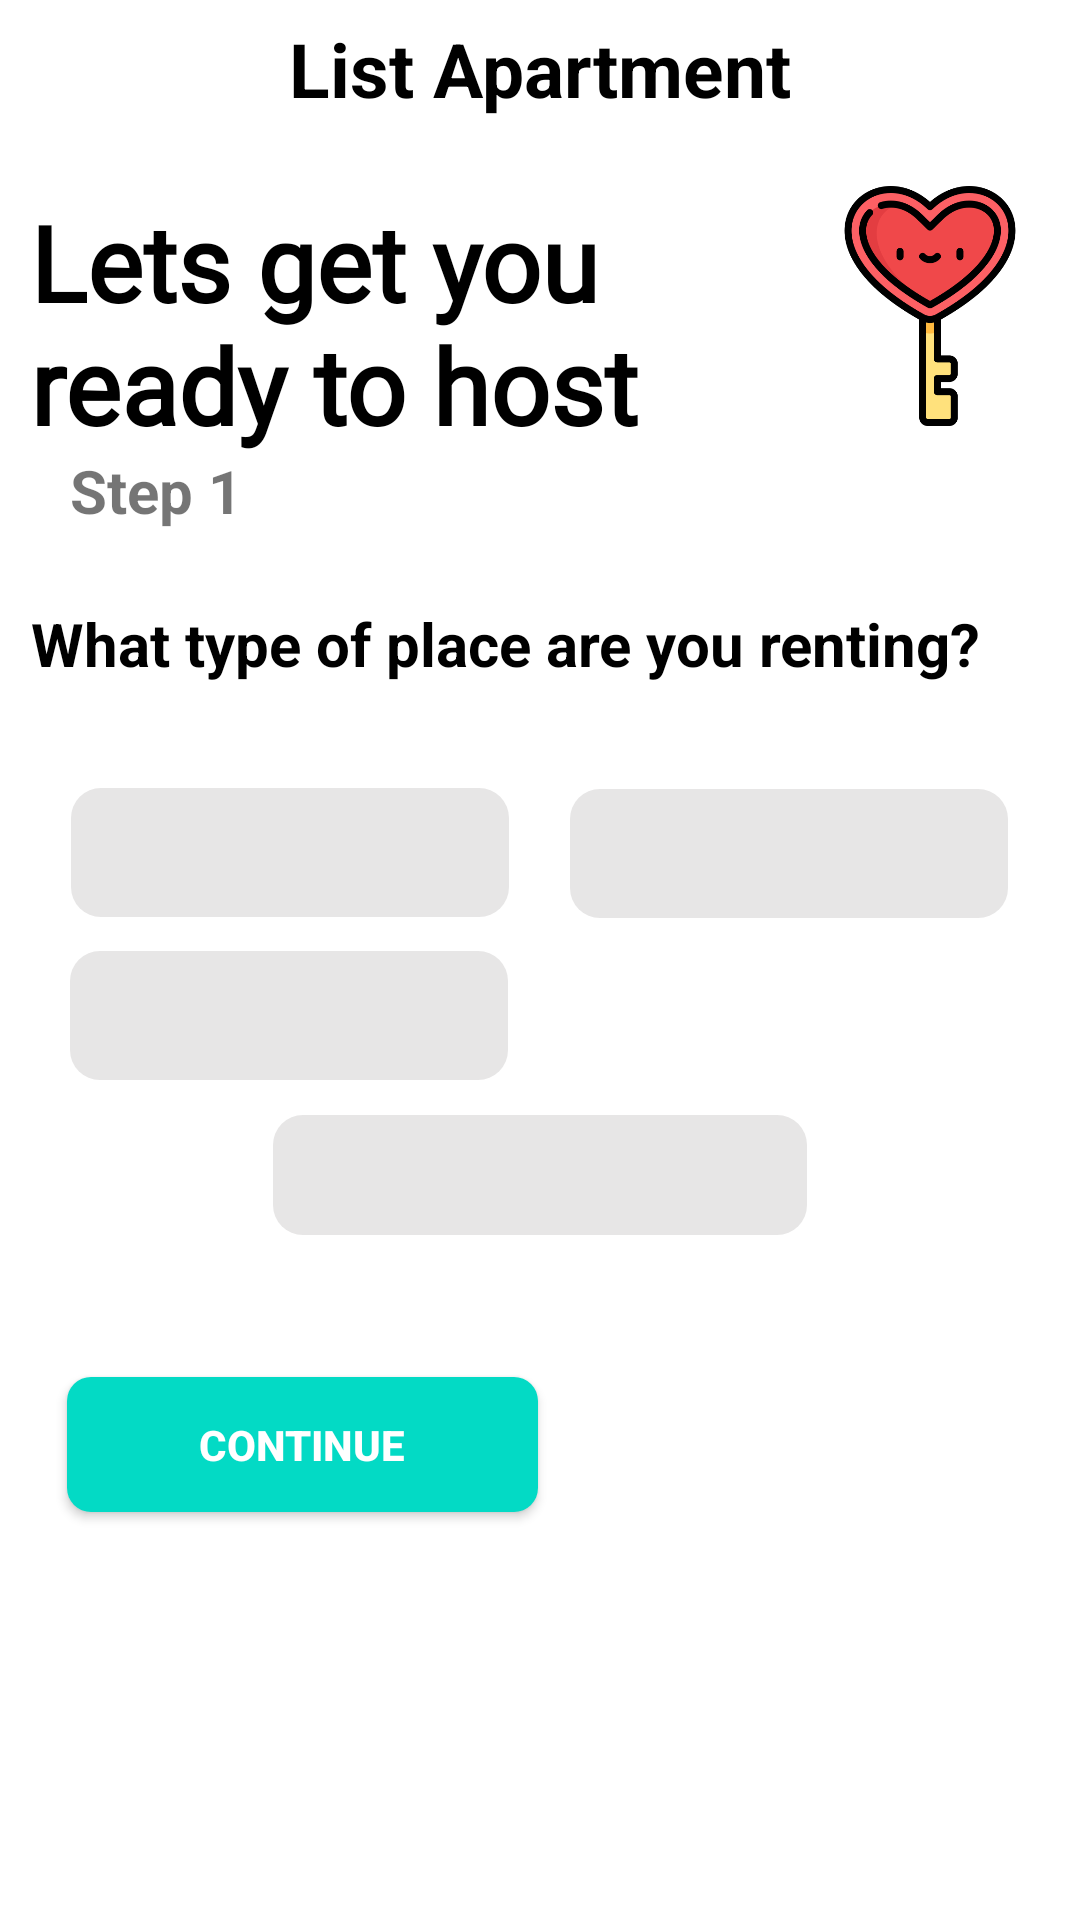

Icon click points for this 1080px×1920px phone screenshot, format [x,y]:
love: [930,306]
